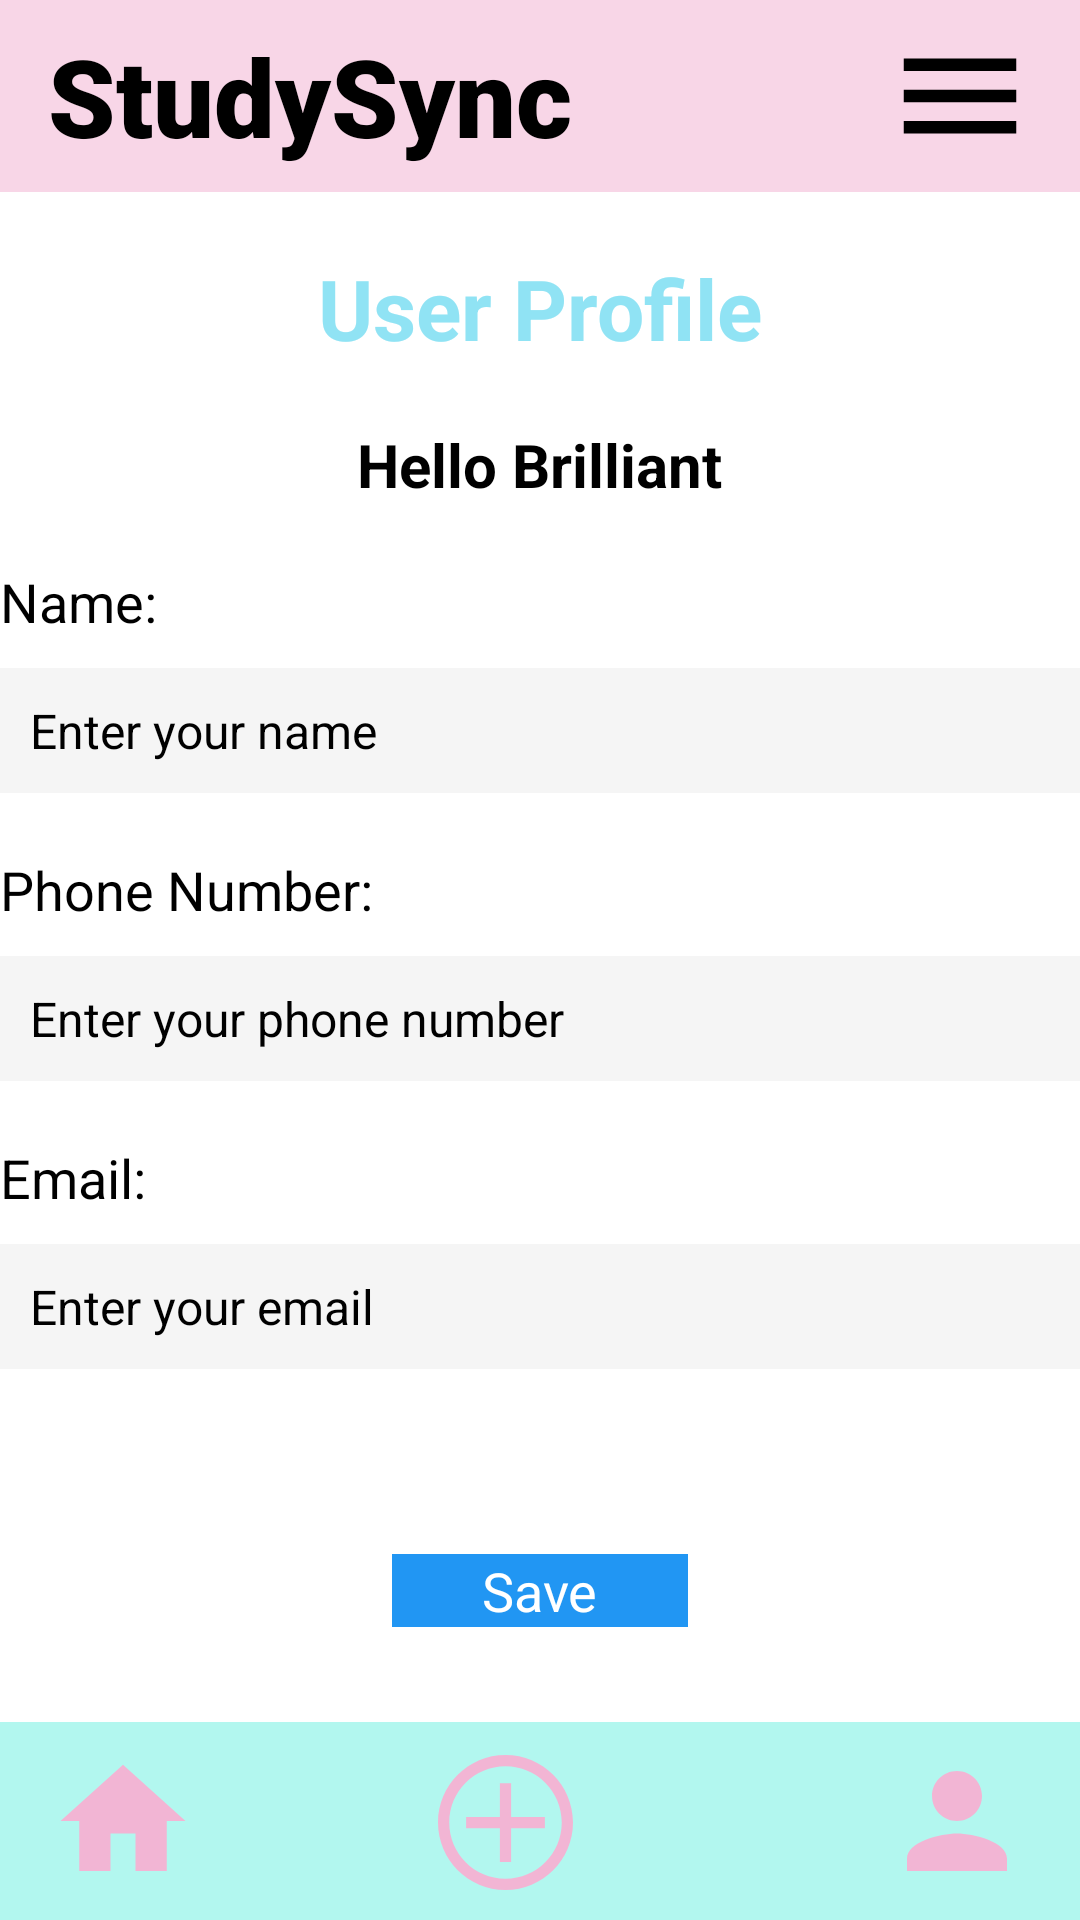

Screen size 1080px×1920px. Icon name, then its box in pixels as (x1,y1,x2,y2):
hamburger menu: (903,58,1017,134)
plus: (438,1755,573,1890)
profile: (907,1771,1007,1871)
